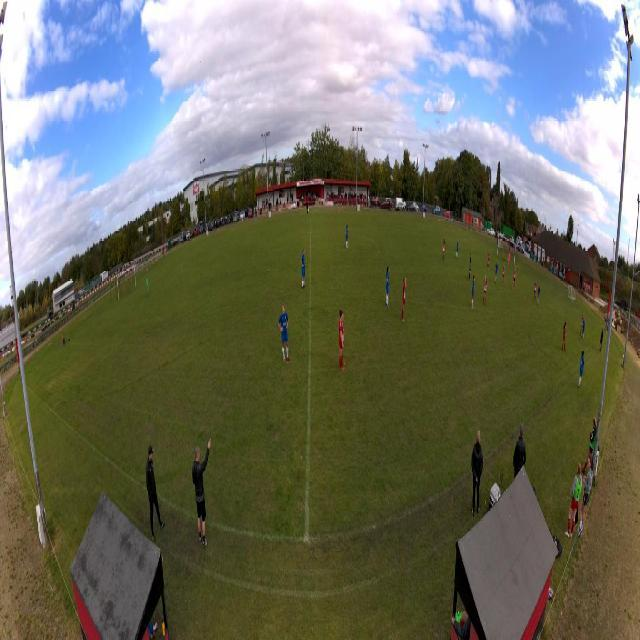player: (278, 304, 291, 365), (338, 308, 345, 372), (578, 349, 585, 390), (401, 276, 407, 322), (300, 247, 306, 292), (385, 265, 390, 310), (561, 321, 568, 352), (483, 274, 488, 306), (471, 274, 475, 309), (581, 316, 586, 343), (512, 266, 517, 291), (579, 313, 584, 338), (145, 275, 150, 299), (468, 252, 472, 281), (495, 259, 499, 285), (345, 224, 349, 249), (533, 279, 537, 303), (455, 238, 459, 260), (537, 285, 541, 307), (486, 249, 490, 270), (502, 262, 505, 288), (442, 238, 445, 263), (508, 250, 511, 267)
